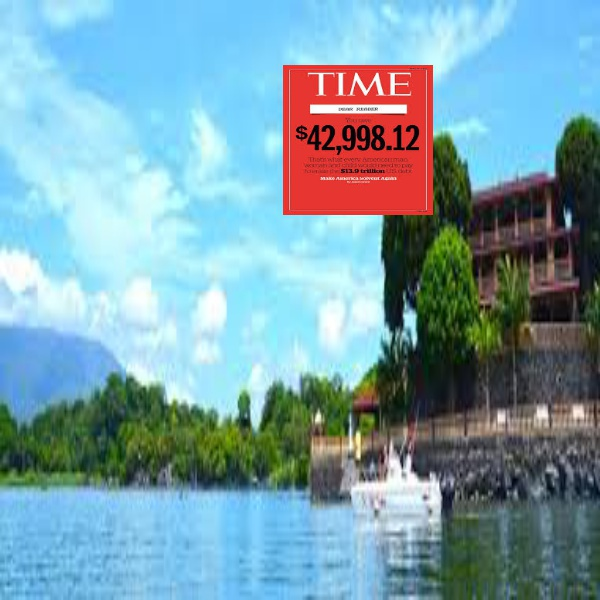time_cover: (276, 58, 437, 219)
